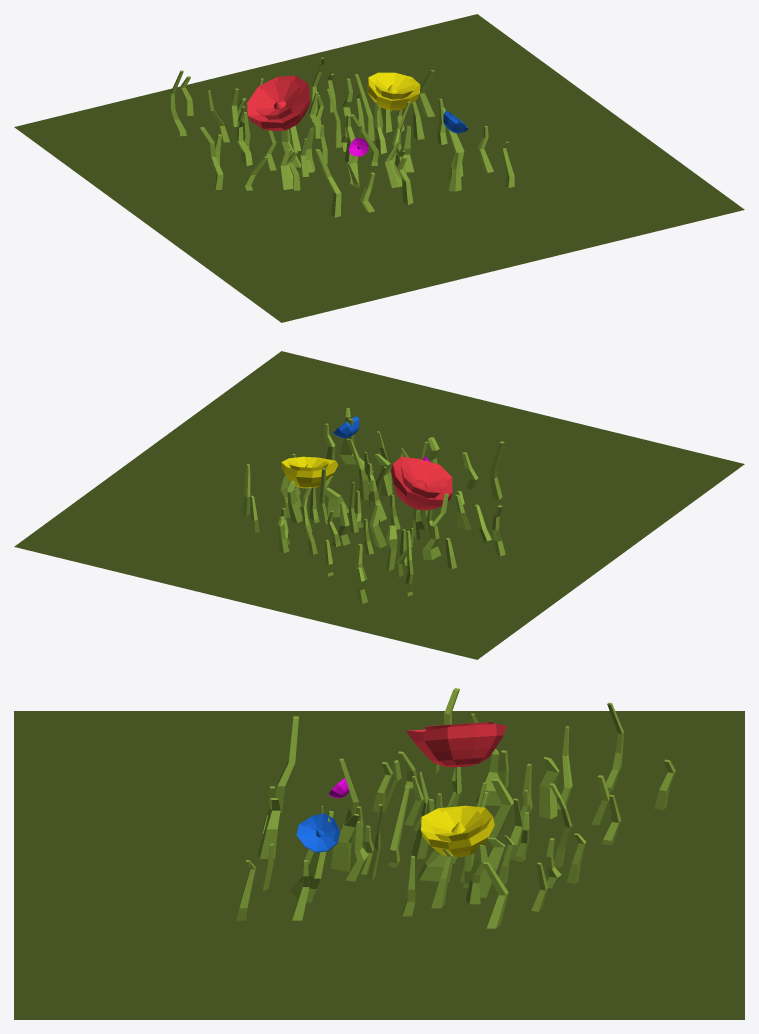
3 views of the same model, one above another, from view 1: azimuth 30°, elevation 25°; view 2: azimuth 150°, elevation 25°; view 3: azimuth 270°, elevation 25° (orthographic). The views are drawn at different scales.
Visible parts, largest first — view 1: GrassGround, GrassWithFlowers; view 2: GrassGround, GrassWithFlowers; view 3: GrassGround, GrassWithFlowers.
Part boxes in pixels (left/top/right/bottom): GrassGround: left=14, top=14, right=744, bottom=322; GrassWithFlowers: left=170, top=57, right=514, bottom=217; GrassGround: left=14, top=351, right=744, bottom=659; GrassWithFlowers: left=241, top=408, right=505, bottom=603; GrassGround: left=14, top=711, right=744, bottom=1019; GrassWithFlowers: left=236, top=688, right=675, bottom=928.
Size of the model in its own units: 235 by 41.63 by 235.
